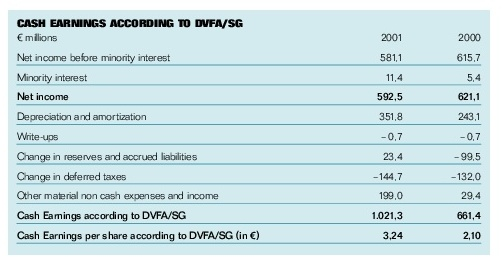table: (0, 0, 503, 262)
